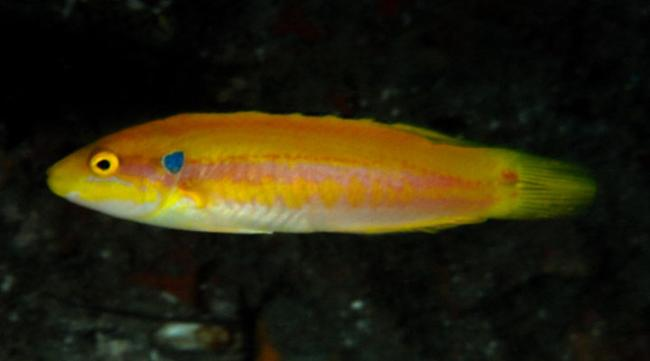fish: (47, 112, 596, 237)
